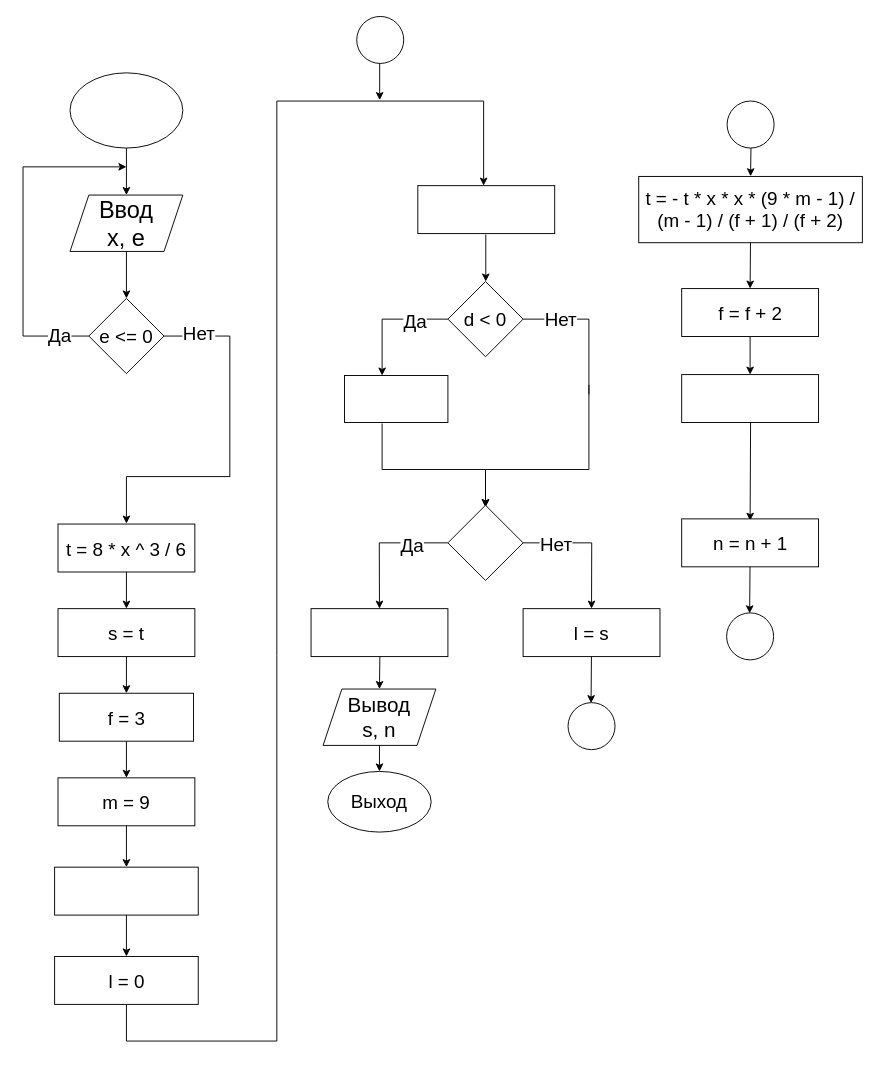
This 879x1065 diagram has some shape labels left out. The shapes that lost their labels are listed below. From the top down, each one's centre as x and y in pixels, then its label:
At [126,110]: "Сумма ряда".
At [486,209]: "d = l - s".
At [396,399]: "d = - d".
At [750,398]: "m = 9 * m".
At [485,542]: "d < e".
At [379,632]: "s = 3 * s / 4".
At [126,890]: "n = 0".
